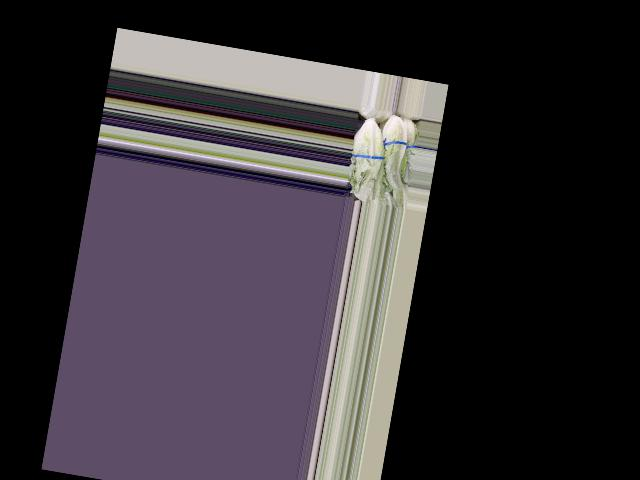lettuce: (373, 112, 417, 192)
